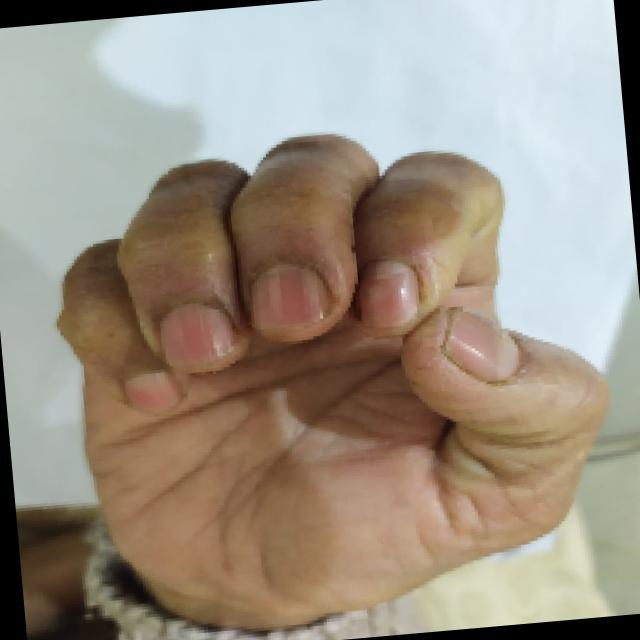Nail: (443, 307, 519, 382), (250, 262, 333, 328), (160, 302, 235, 368), (356, 259, 419, 331), (123, 369, 182, 411)
